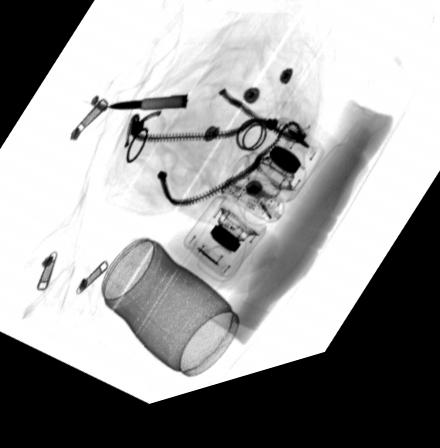Bullet: (106, 103, 189, 119)
